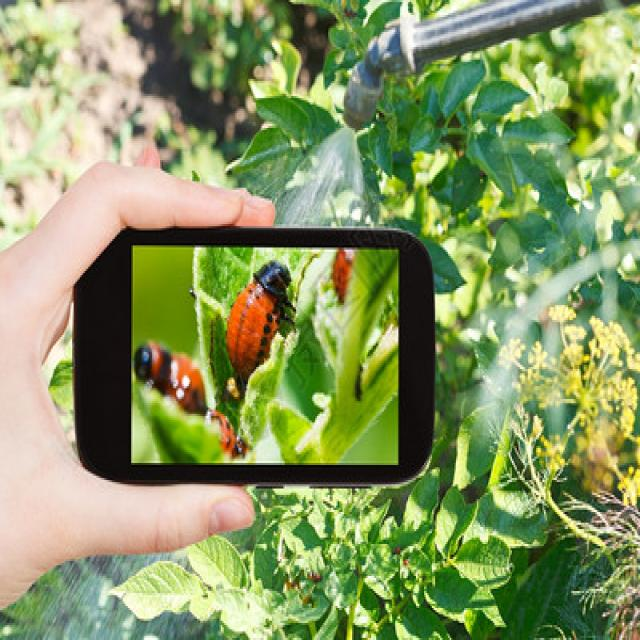ShuCaiHuaBanChong-Larva-: (225, 257, 300, 380)
